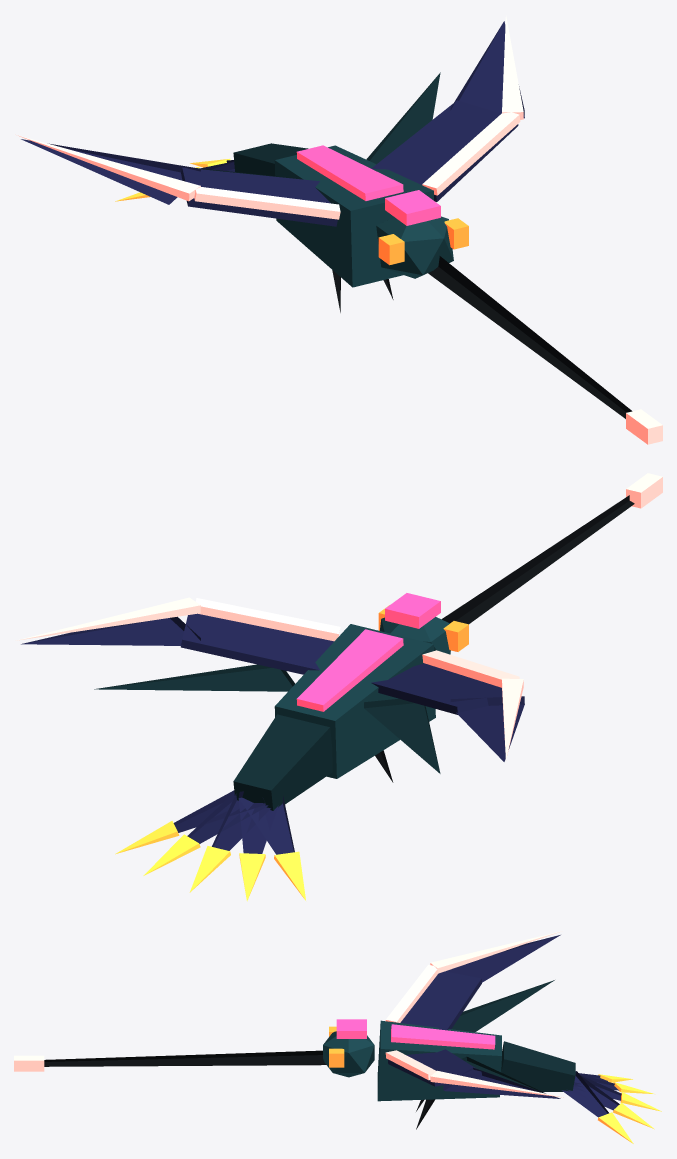
File: sniper.glb
3 renders of one model, top to bottom at view 1: azimuth 30°, elevation 25°; view 2: azimuth 150°, elevation 25°; view 3: azimuth 270°, elevation 25°, orthographic. The views are drawn at different scales.
Visible parts, largest first — view 1: FSniperHull, FSniperGlow; view 2: FSniperHull, FSniperGlow; view 3: FSniperHull, FSniperGlow.
Part boxes in pixels (bbox=[...]): FSniperHull: bbox=[21, 21, 632, 418]; FSniperGlow: bbox=[15, 15, 662, 444]; FSniperHull: bbox=[21, 495, 634, 854]; FSniperGlow: bbox=[16, 473, 662, 901]; FSniperHull: bbox=[44, 935, 621, 1129]; FSniperGlow: bbox=[14, 931, 661, 1143].
Bounding box in the file's own units: 1.3 × 0.39 × 2.13.
